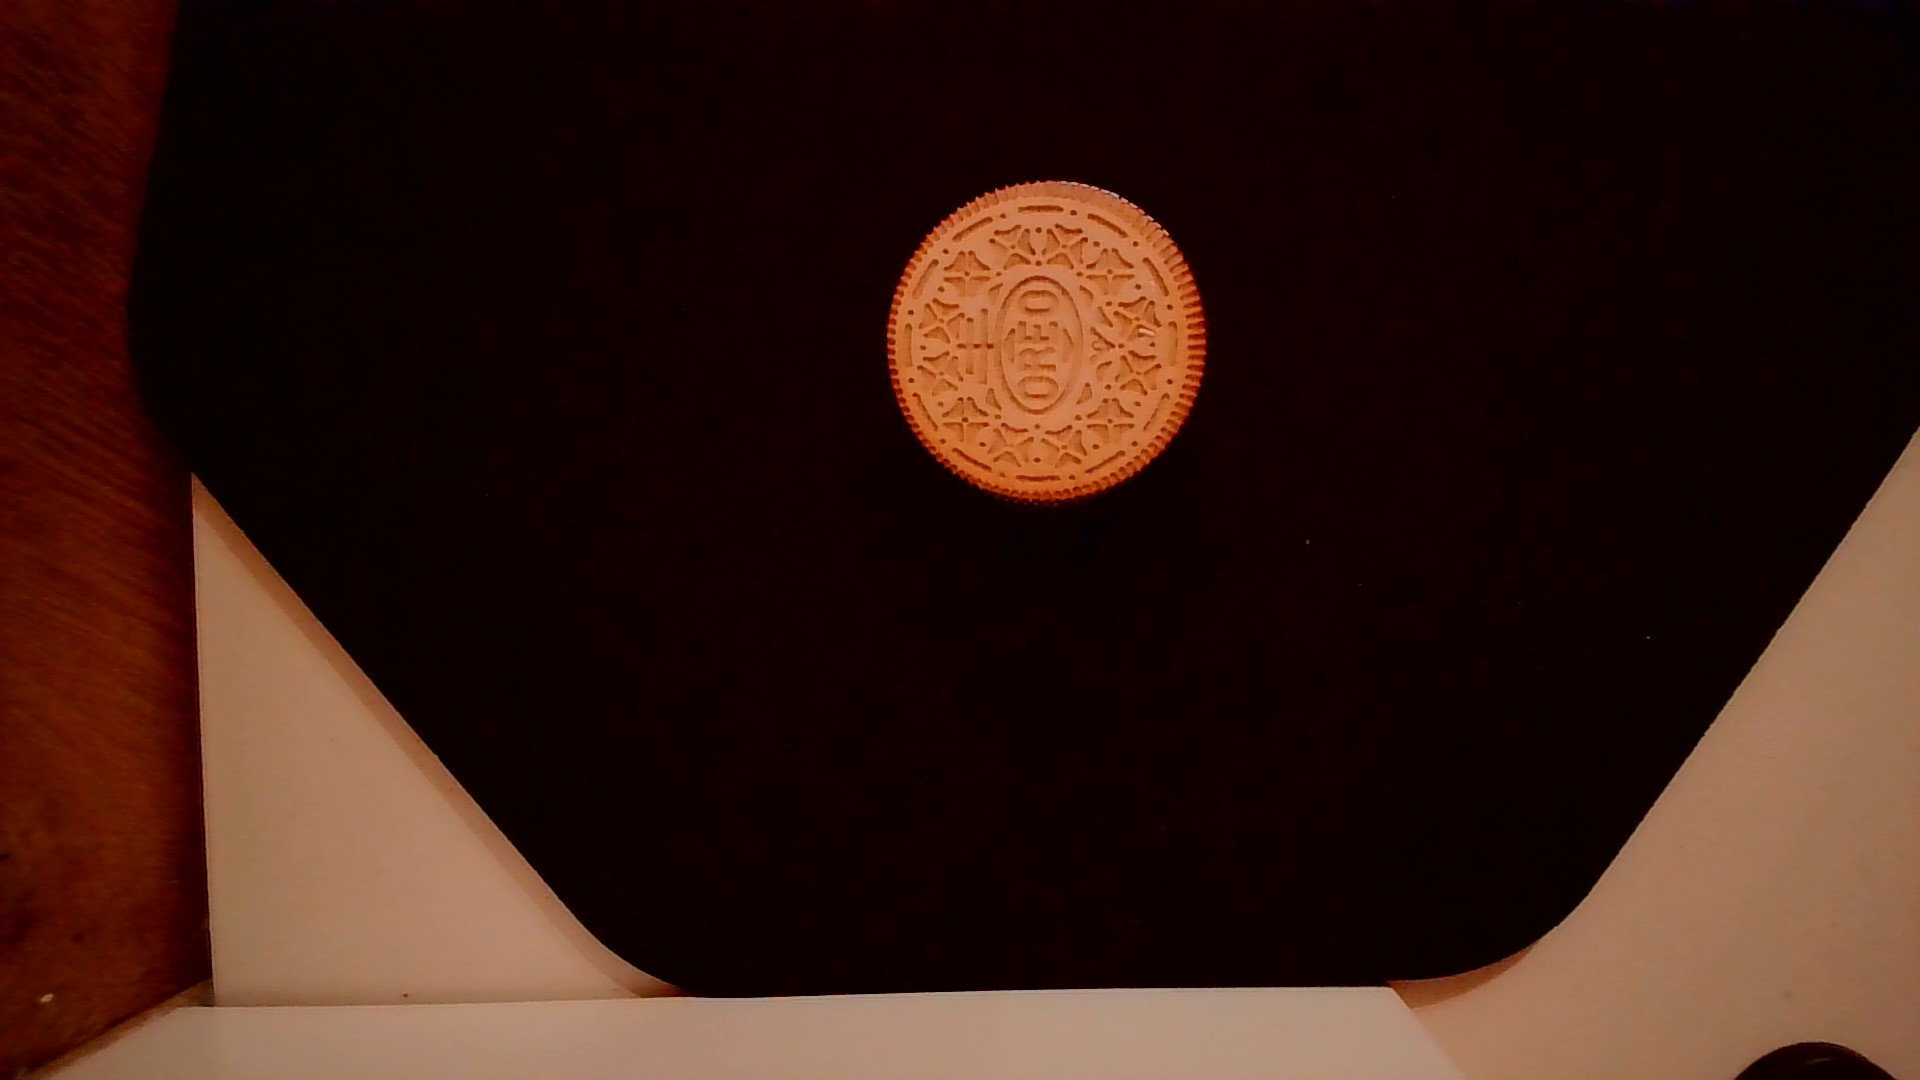Oréo: (880, 169, 1218, 513)
